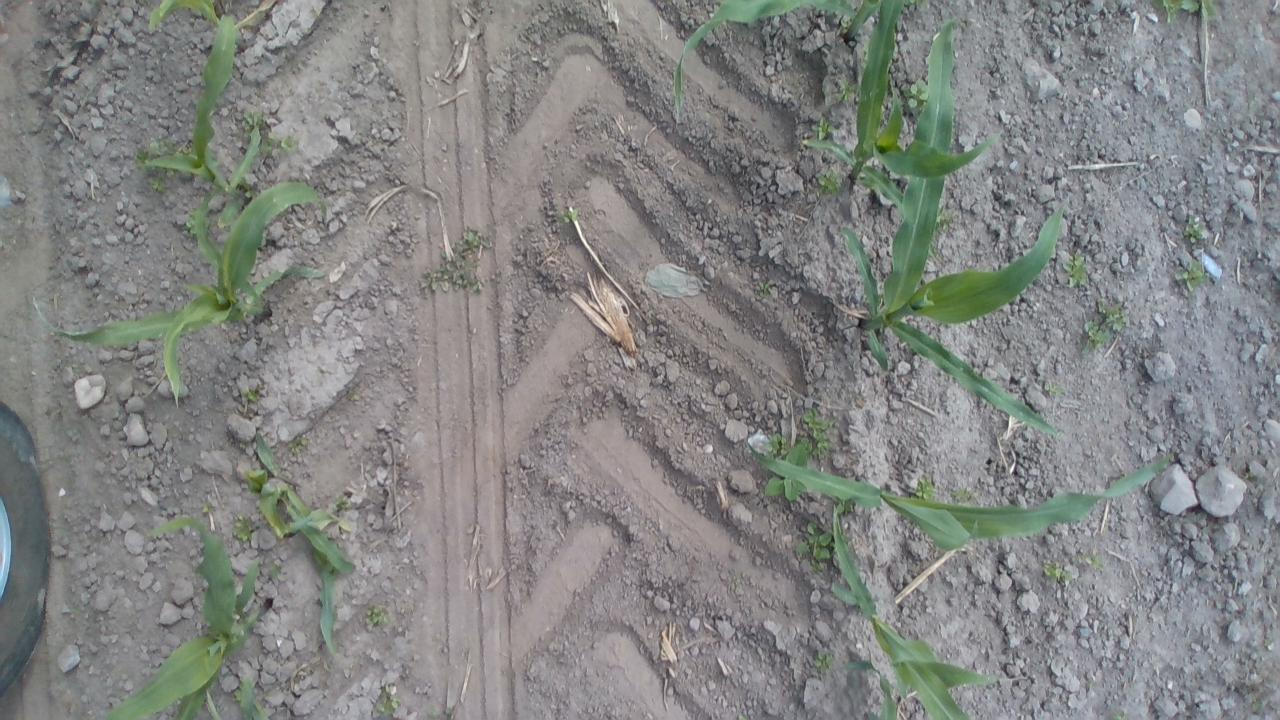Maize: (824, 16, 1078, 449), (32, 182, 330, 398), (746, 447, 1184, 558), (804, 1, 1006, 230), (816, 505, 998, 720), (92, 517, 269, 720), (142, 5, 262, 242), (670, 3, 876, 119), (254, 450, 367, 660)
Weeds: (413, 225, 489, 299), (1079, 298, 1129, 354), (236, 114, 298, 158), (796, 524, 836, 566), (1149, 0, 1222, 23), (800, 409, 834, 458), (230, 511, 263, 551), (1175, 255, 1207, 296), (761, 477, 806, 505), (1060, 250, 1092, 288), (1069, 547, 1105, 576), (1042, 560, 1078, 589), (814, 167, 850, 196), (899, 76, 930, 108), (369, 688, 402, 718), (907, 477, 945, 503), (132, 139, 178, 160), (364, 603, 394, 633), (141, 166, 174, 193), (1182, 213, 1208, 246), (752, 278, 782, 306), (812, 646, 834, 684), (282, 433, 314, 458), (1246, 687, 1274, 715), (937, 209, 962, 240), (833, 78, 860, 105), (554, 206, 578, 236), (758, 428, 789, 451), (808, 115, 834, 142), (240, 388, 266, 413), (326, 495, 352, 517), (948, 487, 976, 507), (184, 208, 202, 239), (786, 440, 810, 461), (1040, 382, 1066, 399)
